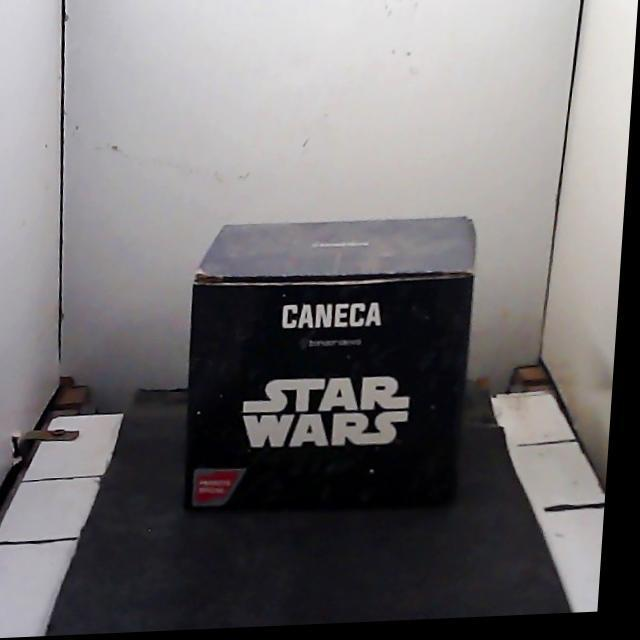papel: (184, 217, 475, 508)
